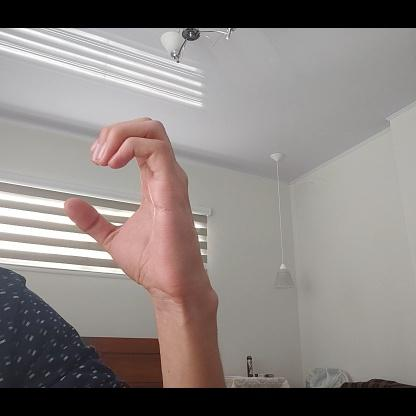C: (65, 116, 210, 293)
